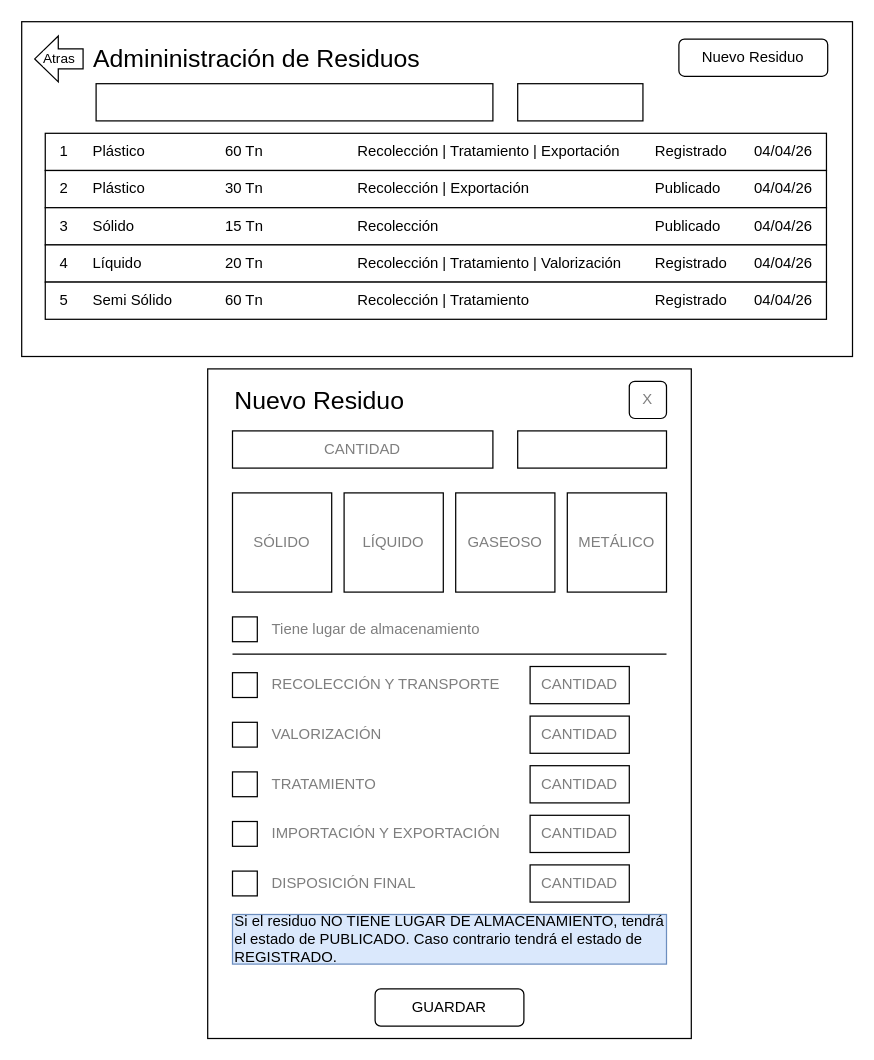
This 874x1060 diagram has some shape labels left out. Here are the shapes that lost their labels. From the top down, the box of each, then its label:
(95, 82, 493, 121): FILTRAR POR TEXTO
(516, 82, 643, 121): ESTADO
(516, 430, 666, 468): GR/ KG / Tn
